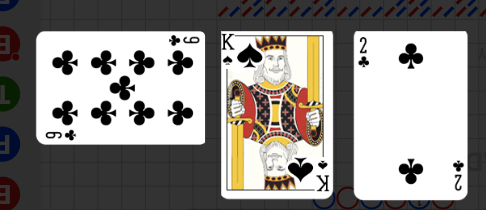2C: (357, 35, 372, 70)
9C: (166, 33, 201, 48), (44, 127, 79, 142)
